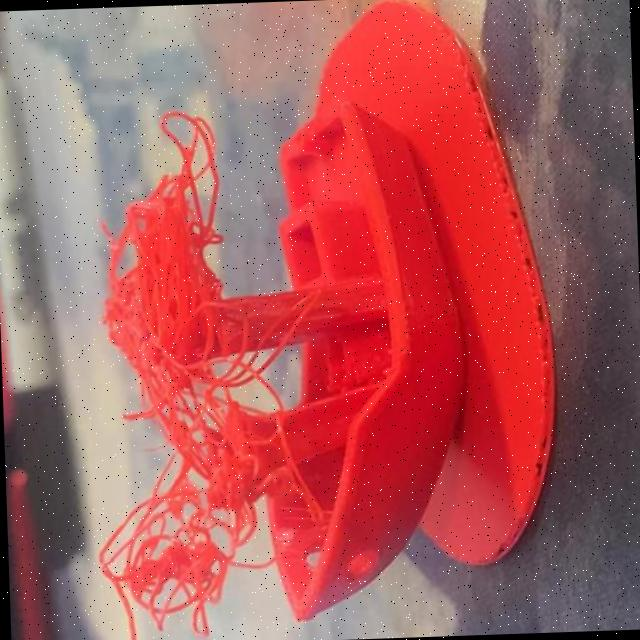spaghetti: (146, 330, 280, 507), (106, 473, 240, 632), (153, 111, 225, 237)
